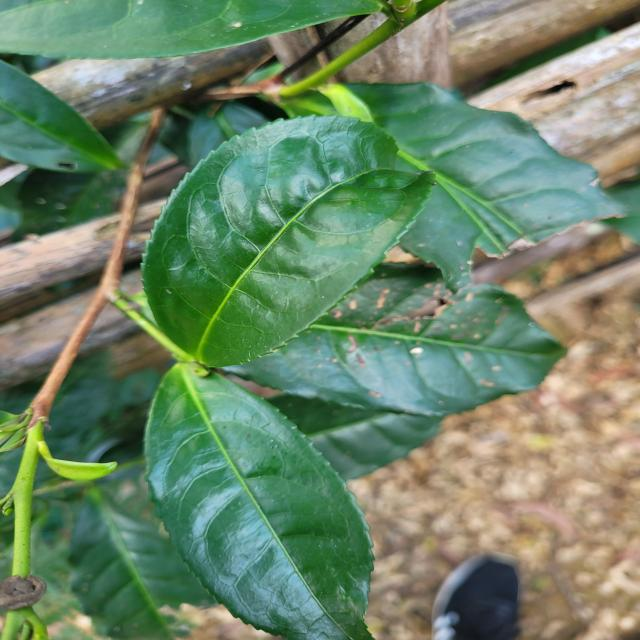Category D 7+ days, Not for Tea: (128, 103, 456, 394)
